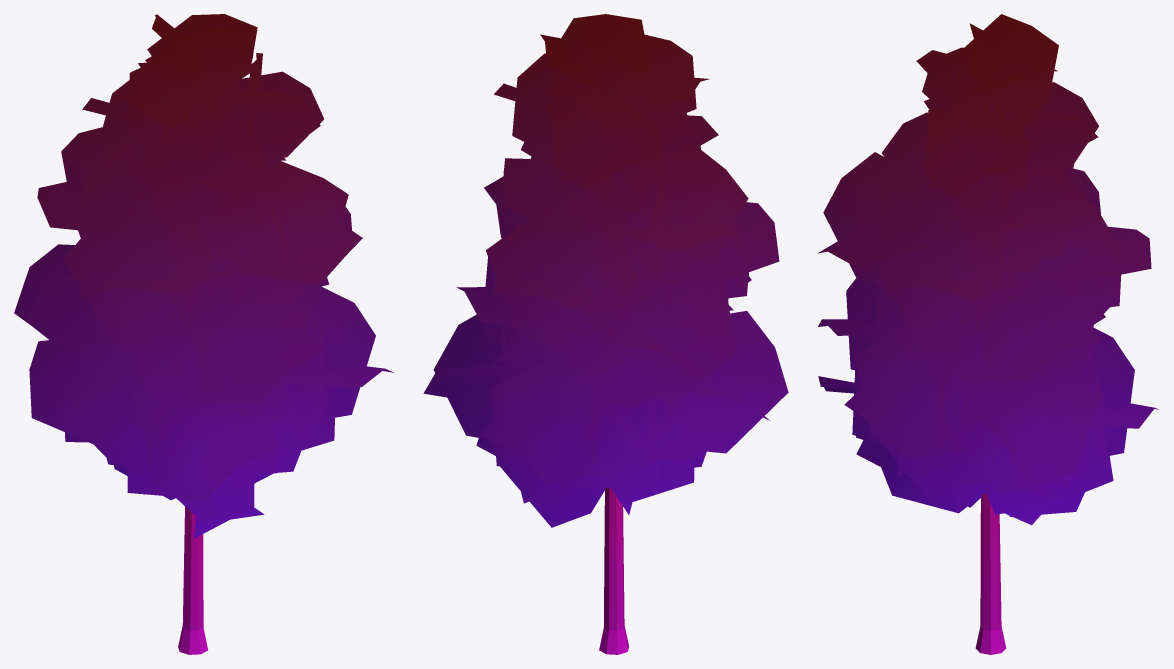
The model's file is SM_Tree_Birch_01.fbx.
The picture shows the model from 3 angles, left to right: view 1: azimuth 30°, elevation 25°; view 2: azimuth 150°, elevation 25°; view 3: azimuth 270°, elevation 25°; orthographic projection.
Visible parts, largest first — view 1: SM_Tree_Birch_01_Leaves, SM_Tree_Birch_01; view 2: SM_Tree_Birch_01_Leaves, SM_Tree_Birch_01; view 3: SM_Tree_Birch_01_Leaves, SM_Tree_Birch_01.
Boxes of the visible parts, left/top/right/bottom form: SM_Tree_Birch_01_Leaves: left=14, top=14, right=394, bottom=538; SM_Tree_Birch_01: left=178, top=506, right=207, bottom=654; SM_Tree_Birch_01_Leaves: left=423, top=14, right=788, bottom=527; SM_Tree_Birch_01: left=599, top=488, right=629, bottom=654; SM_Tree_Birch_01_Leaves: left=817, top=14, right=1158, bottom=525; SM_Tree_Birch_01: left=975, top=487, right=1006, bottom=654.
Size of the model in its own units: 245 by 455 by 229.
